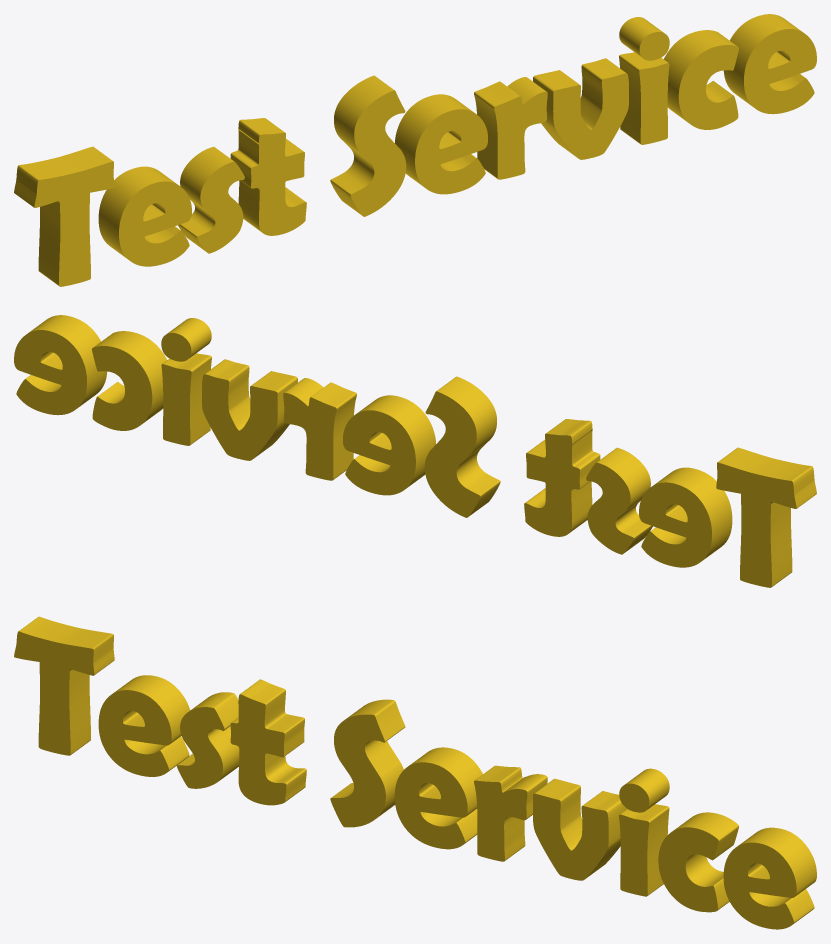
3 renders of one model, top to bottom at view 1: azimuth 30°, elevation 25°; view 2: azimuth 150°, elevation 25°; view 3: azimuth 330°, elevation 25°, orthographic.
Visible parts, largest first — view 1: Text; view 2: Text; view 3: Text.
Boxes of the visible parts, x1,y1,x2,y2 form: Text: [14, 14, 816, 286]; Text: [14, 315, 816, 587]; Text: [14, 616, 816, 929].
Bounding box in the file's own units: 4.45 × 0.6475 × 0.2.
